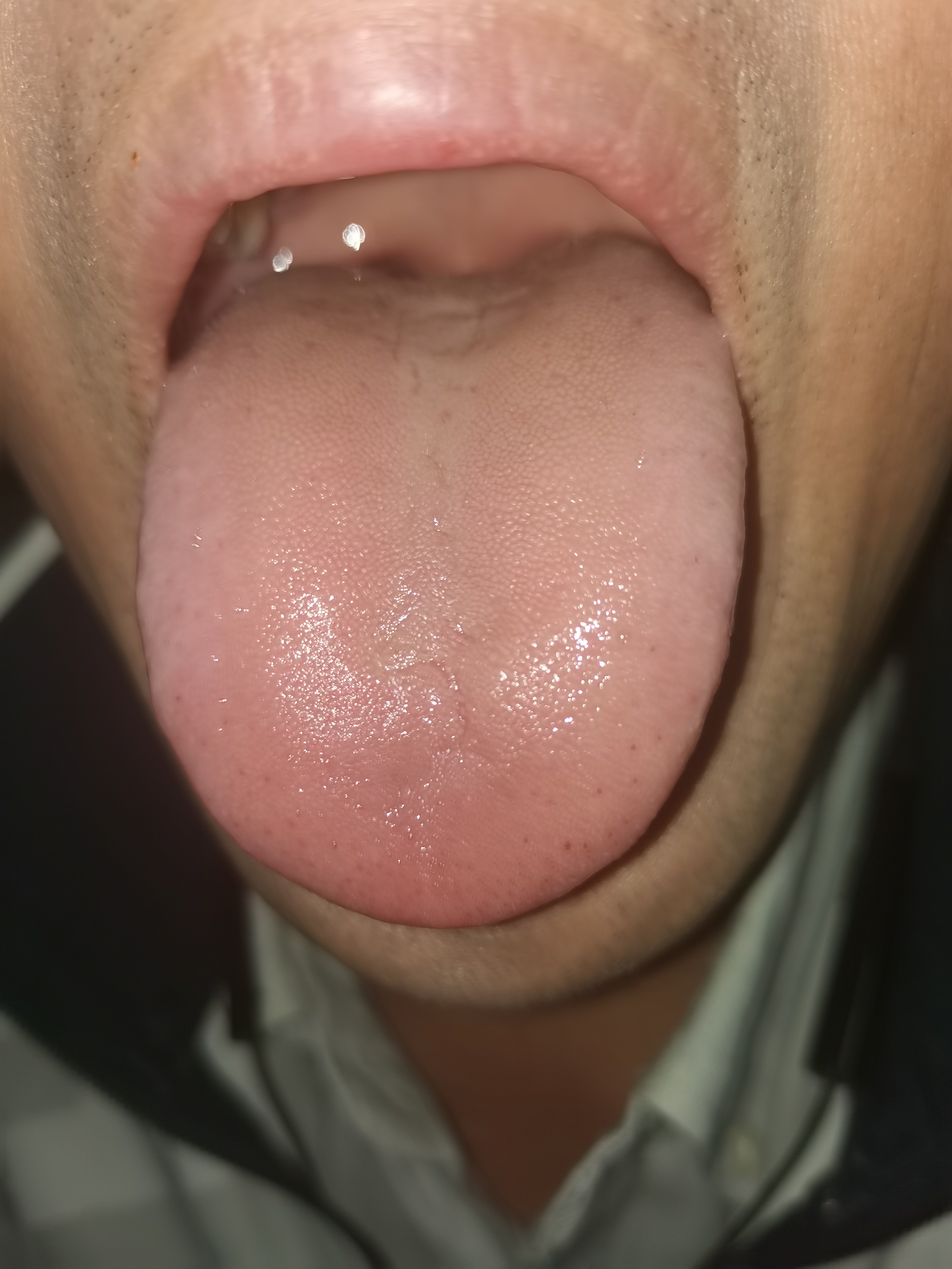baitaishe: (138, 232, 749, 928)
hongdianshe: (521, 736, 640, 851)
